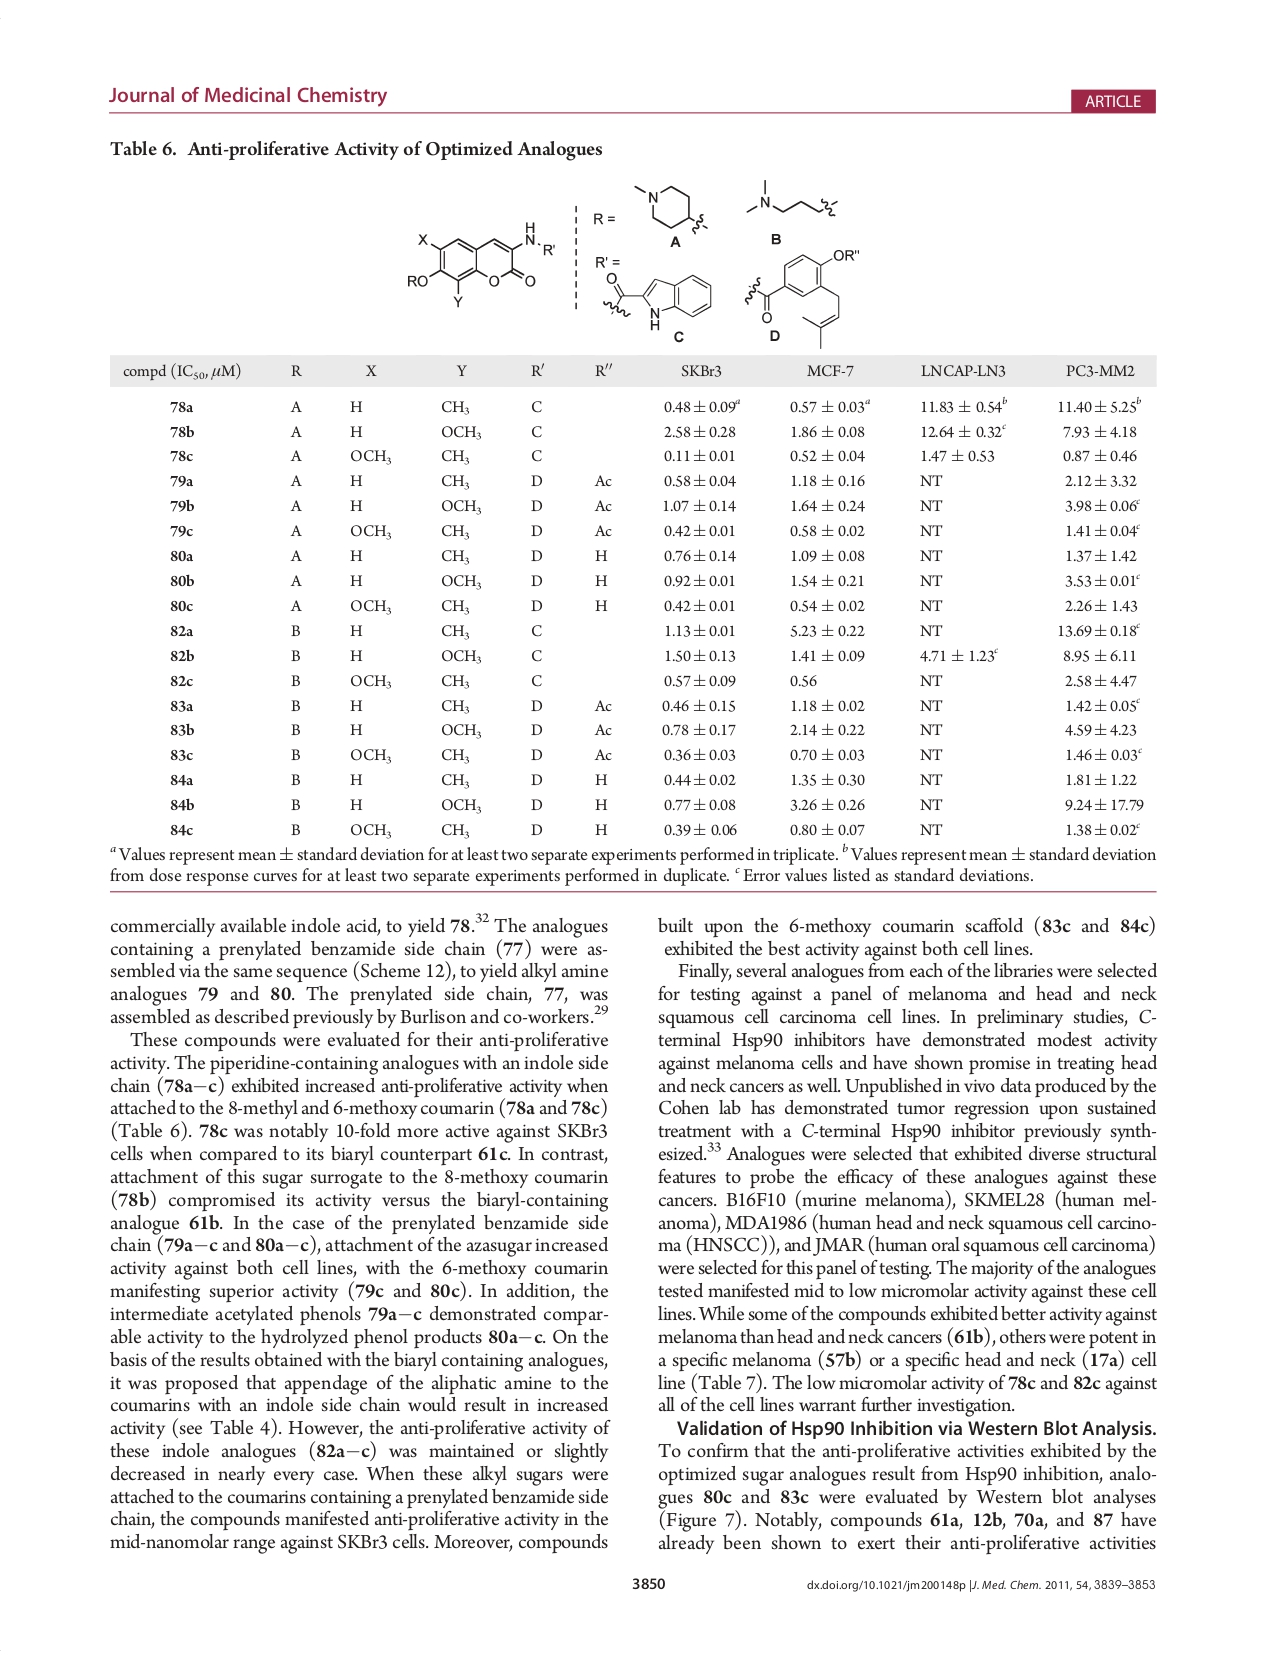exist_molecular: (403, 219, 556, 309), (741, 247, 862, 352), (597, 267, 713, 332), (746, 176, 840, 226), (634, 178, 711, 238)
